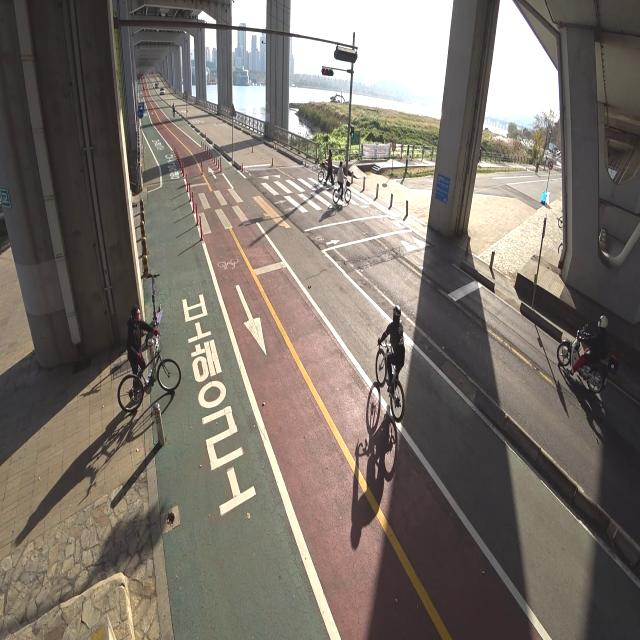Car: (155, 85, 167, 98), (152, 77, 159, 89)
Motorcycle: (555, 311, 626, 397)
